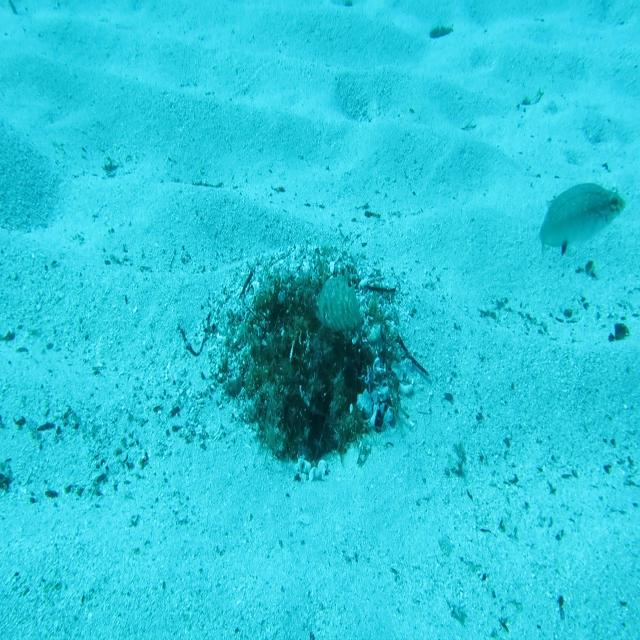NIP_CORE: (313, 268, 364, 339)
core_nest: (281, 290, 336, 336)
female: (533, 176, 628, 273)
nest: (198, 231, 418, 488)
vegetation: (606, 322, 632, 344)
